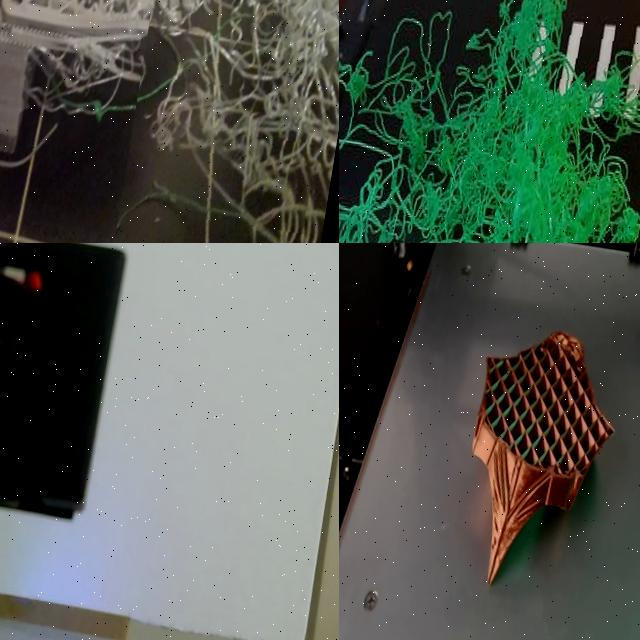spaghetti: (339, 0, 640, 243), (109, 0, 339, 243)
